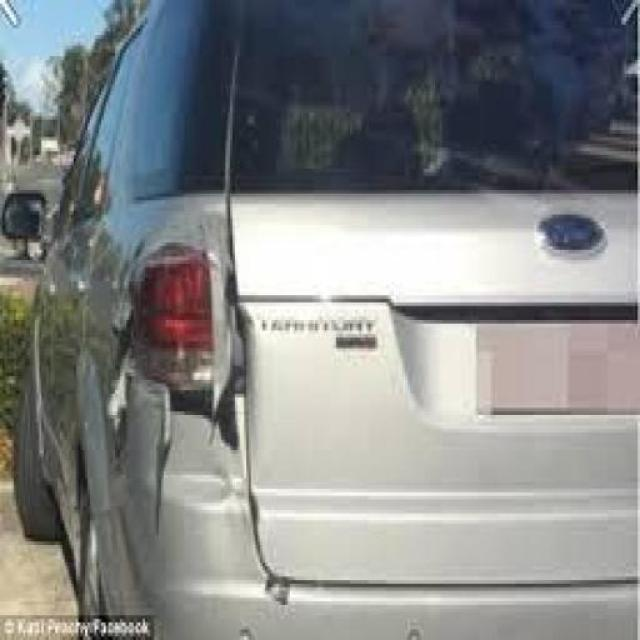crack: (135, 247, 222, 394)
tear: (104, 280, 247, 531)
